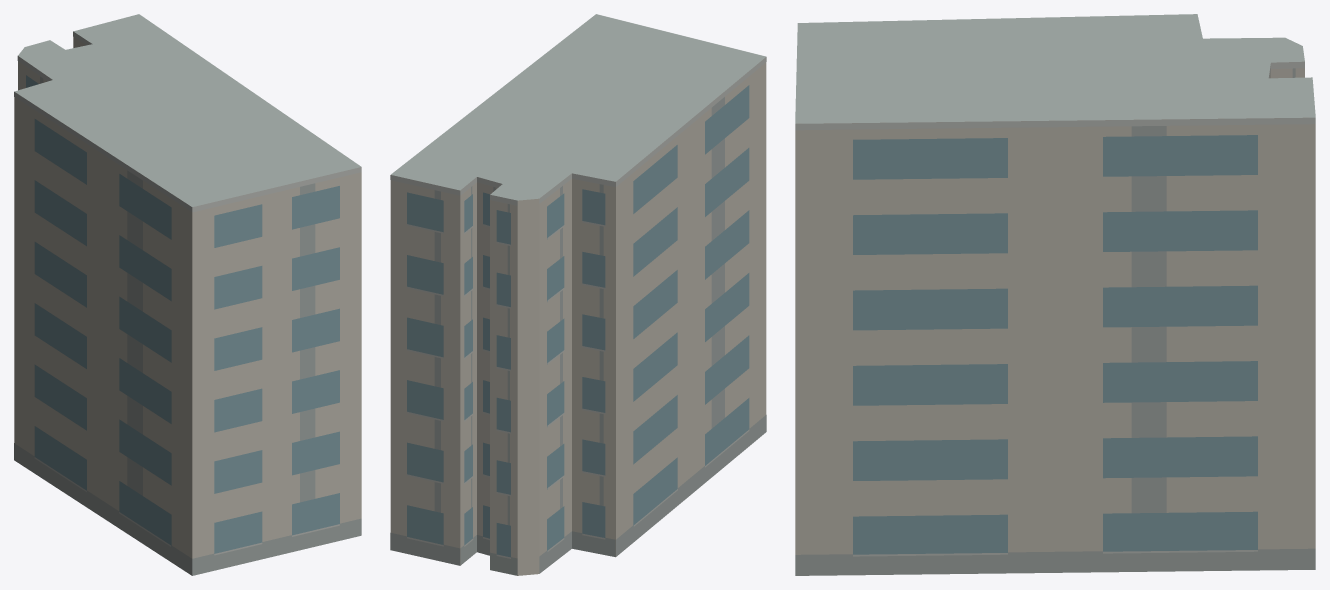
Rendered from survey-upis-32871182.glb.
3 views of the same model, side by side, from view 1: azimuth 30°, elevation 25°; view 2: azimuth 150°, elevation 25°; view 3: azimuth 270°, elevation 25° (orthographic). The views are drawn at different scales.
Parts seen in each view (by area): view 1: survey-upis-32871182.tmp; view 2: survey-upis-32871182.tmp; view 3: survey-upis-32871182.tmp.
Part boxes in pixels (<box>): survey-upis-32871182.tmp: <box>14,14,361,575</box>; survey-upis-32871182.tmp: <box>390,14,766,575</box>; survey-upis-32871182.tmp: <box>795,14,1315,575</box>.
Bounding box in the file's own units: 8.89 × 17.05 × 17.81.
